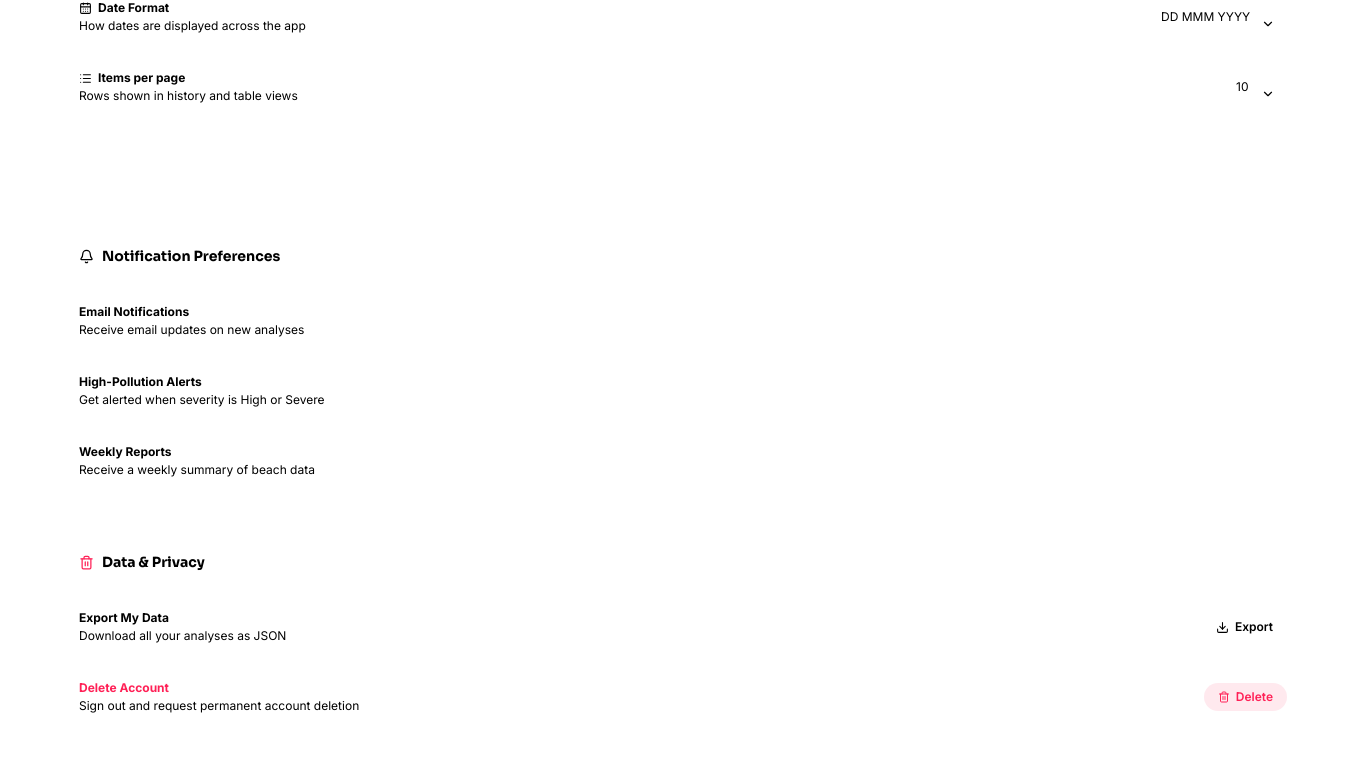
Scenario: SettingsPage component › handles export failure gracefully with error toast
(page scrolled)
What coordinates should you click on to do the following:
click the button "Export"
I would click on:
 (1244, 627)
Its box is x1=1202 y1=613 x2=1287 y2=641.
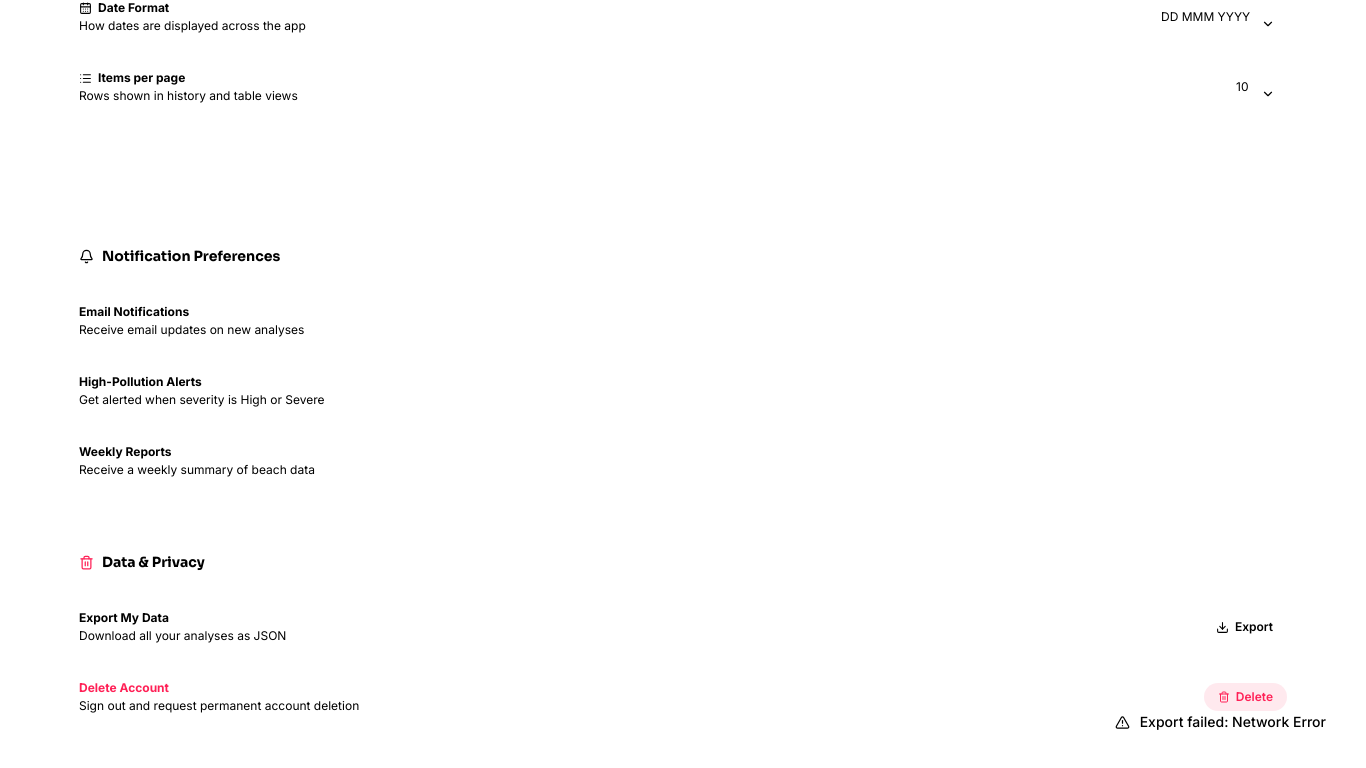
Check: the text "Export failed: Network Error" is shown, box x1=1140 y1=712 x2=1326 y2=732
